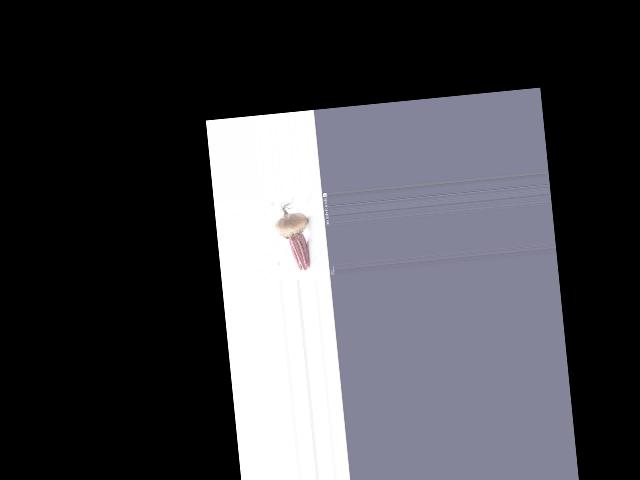beet: (272, 197, 312, 273)
